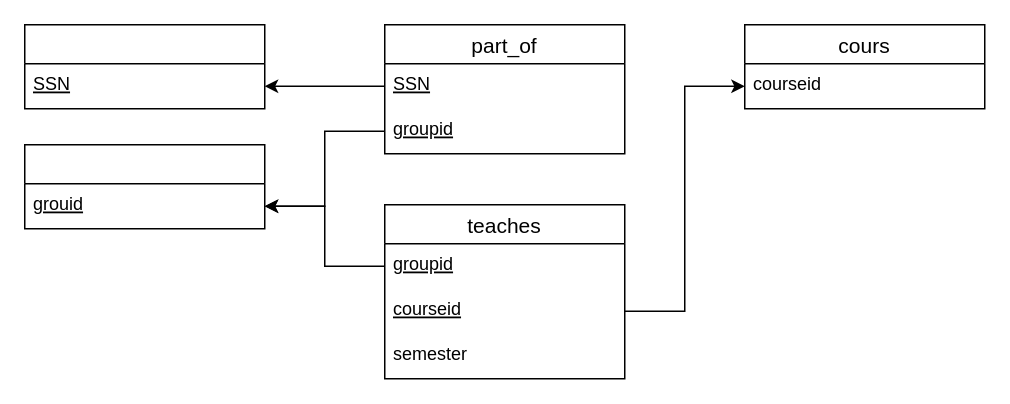
Some shapes in this 1010 by 404 pixel diagram are drawn without their labels. The shapes that lost their labels are listed below. From the top down, each one's box as (x1, y1, x2, y2) in pixels, then its label:
(23, 23, 265, 109): professeurs
(23, 143, 265, 229): equipe_professeurs
